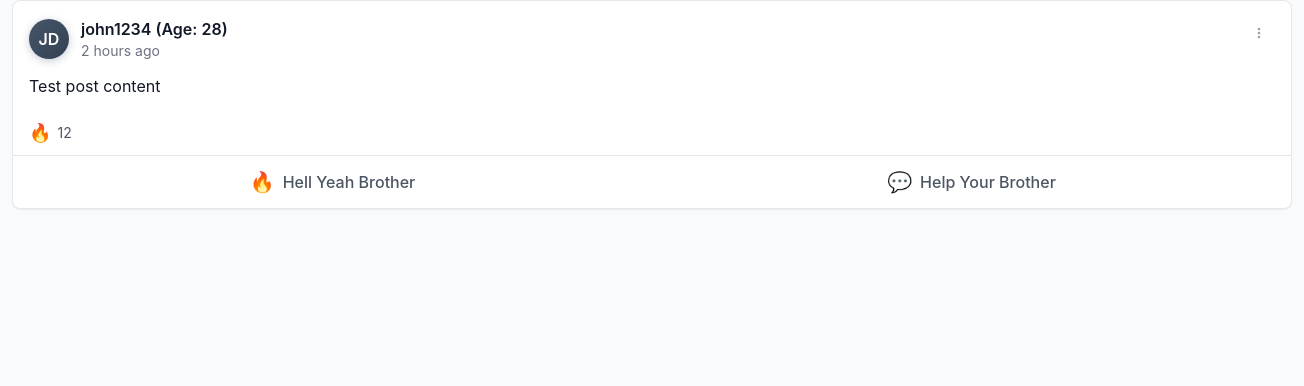
Scenario: Post Component › Comments Section › should show comment count with added comments
This screenshot has width=1304, height=386.
Click the button labelled "💬 Help Your Brother" at (972, 182), box [652,160,1291,204]
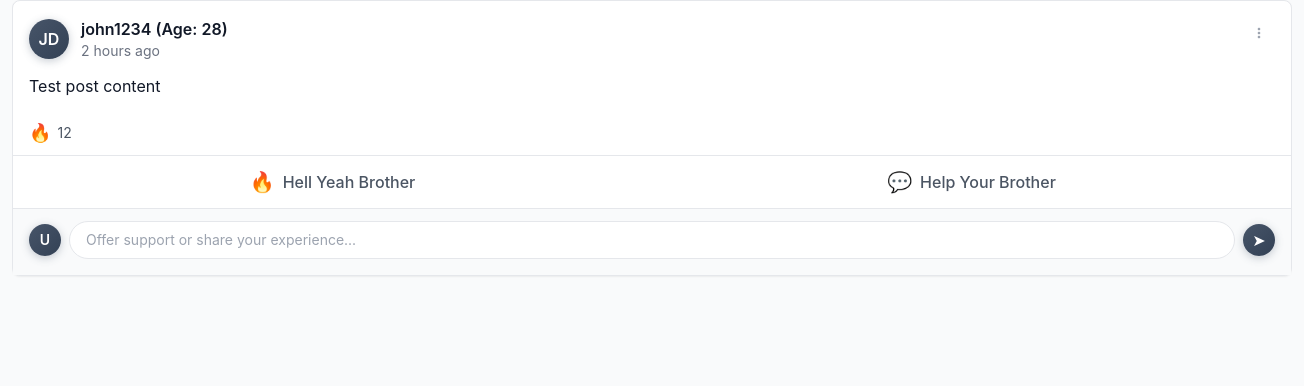
Type "First comment" into the field named "write a comment" at (652, 240), box [69,221,1235,259]
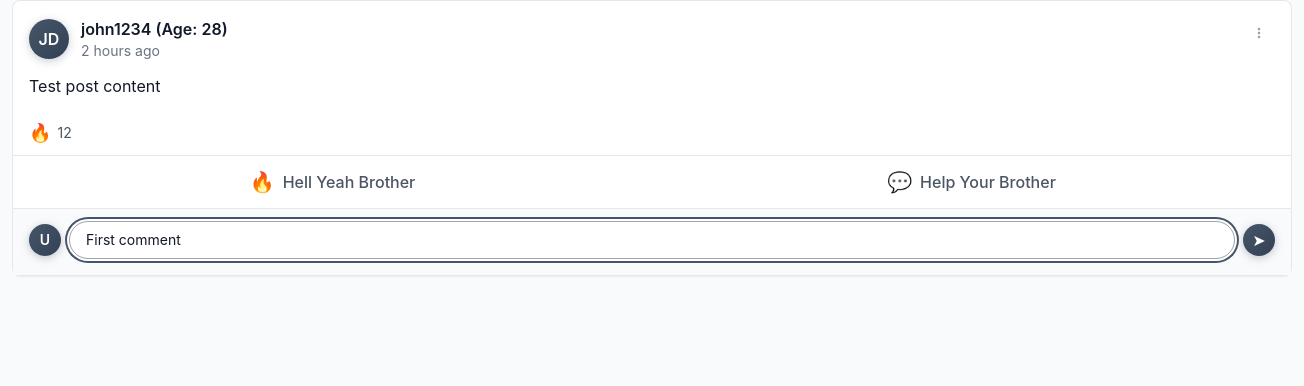
Click the button named "submit comment" at (1259, 240), box [1243,224,1275,256]
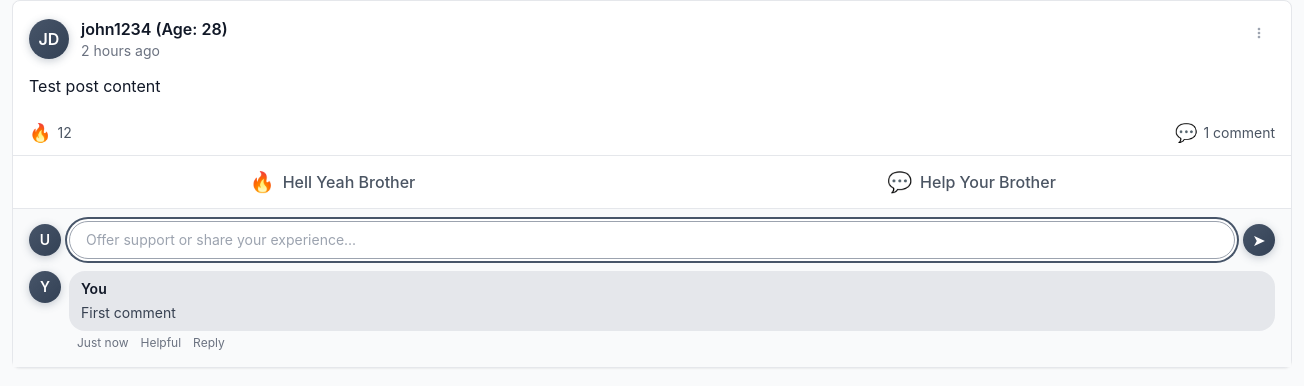
Expected: the button labelled "💬 1 comment" is shown, [1175,119,1275,147]
